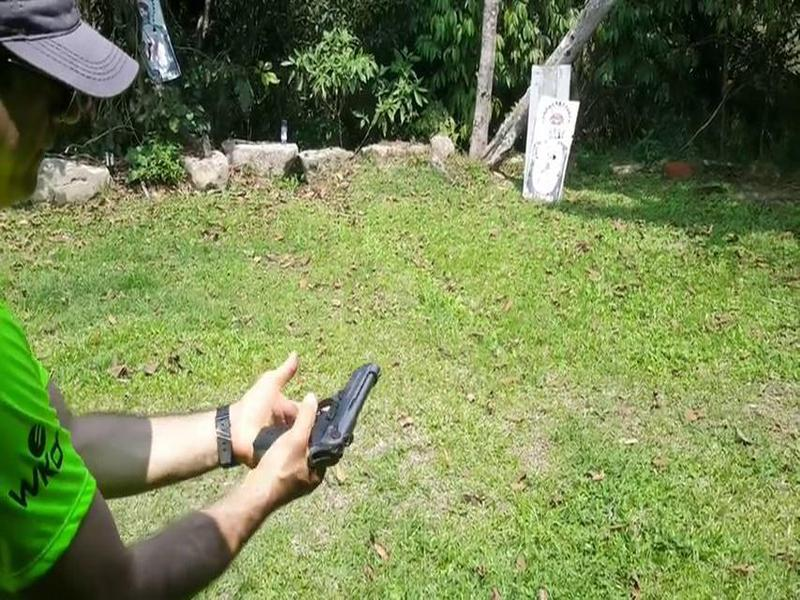Pistola: (255, 354, 383, 486)
